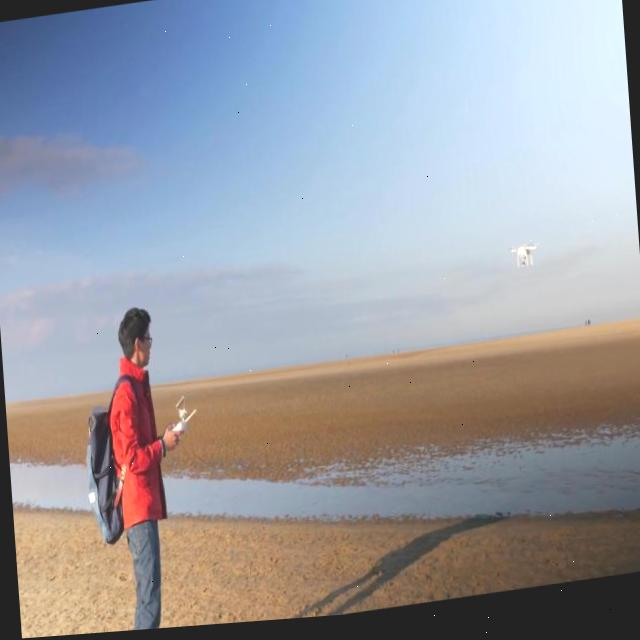drone: (505, 245, 540, 280)
